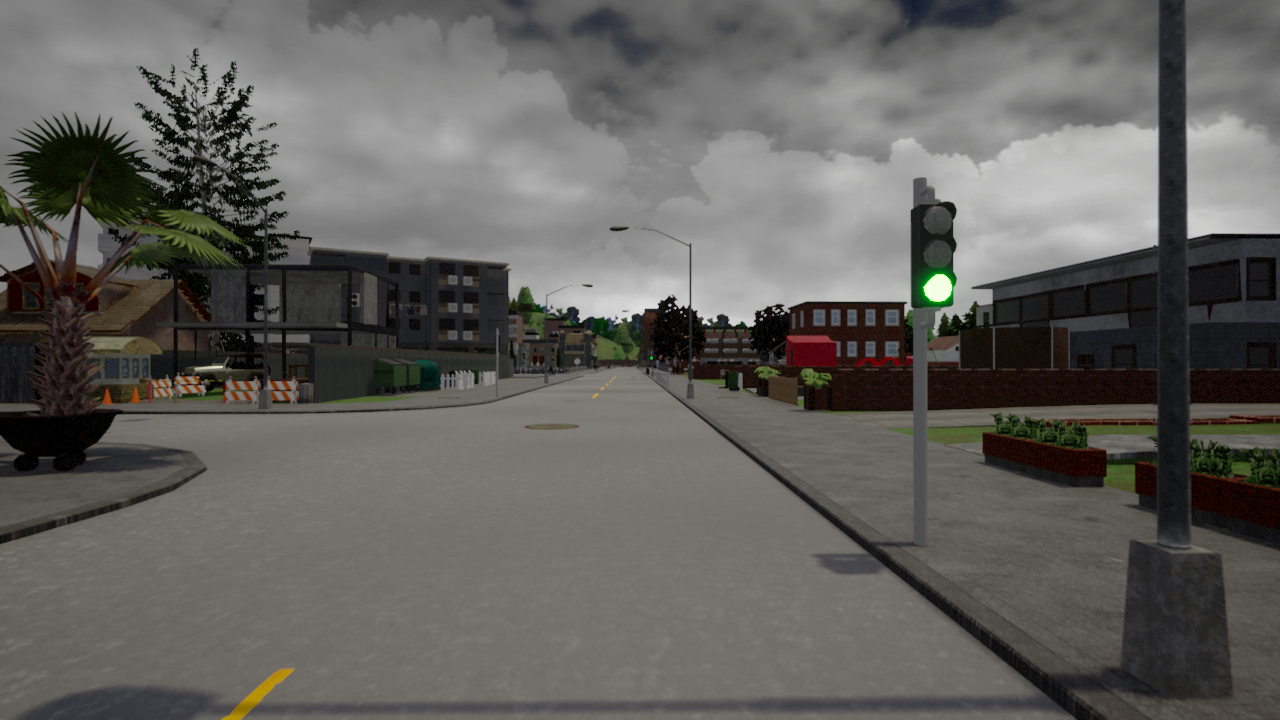green: (913, 200, 949, 314)
